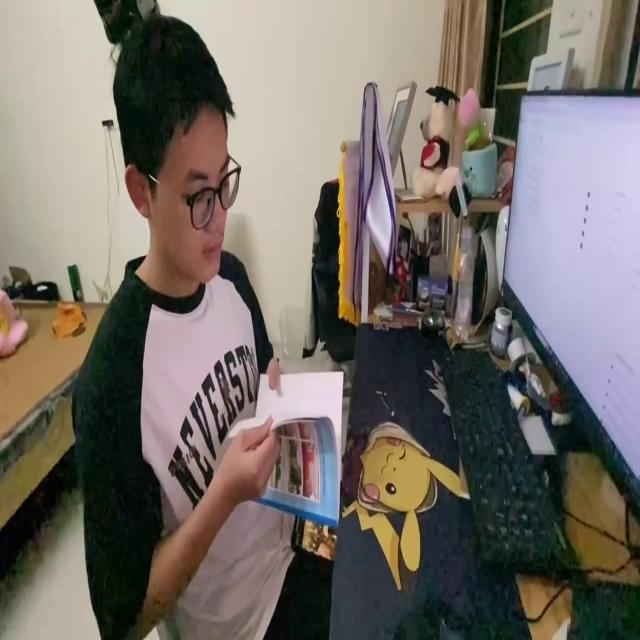book: (226, 360, 343, 530)
laptop: (495, 79, 640, 525)
student: (70, 10, 332, 634)
